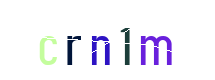1: (84, 0, 164, 80)
C: (7, 0, 87, 80)
M: (94, 0, 174, 80)
N: (67, 0, 147, 80)
R: (60, 0, 140, 80)
